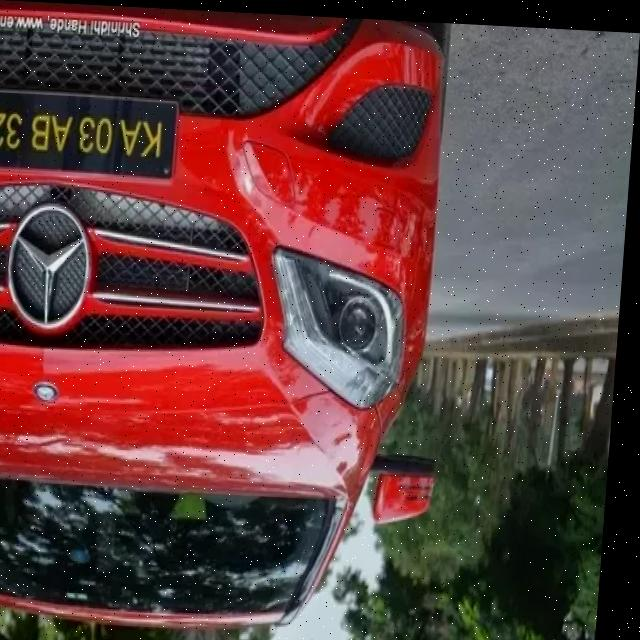plate: (0, 88, 184, 182)
